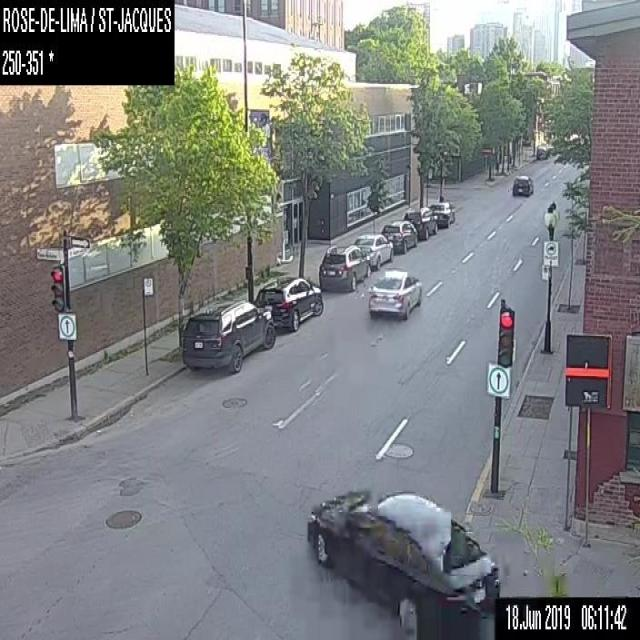vehicle: (305, 488, 500, 639), (179, 300, 270, 372), (255, 277, 323, 328), (369, 268, 421, 316), (320, 242, 368, 288), (356, 234, 394, 266), (382, 218, 418, 249), (405, 209, 437, 238), (430, 201, 454, 227), (509, 173, 534, 196), (536, 144, 547, 158)
